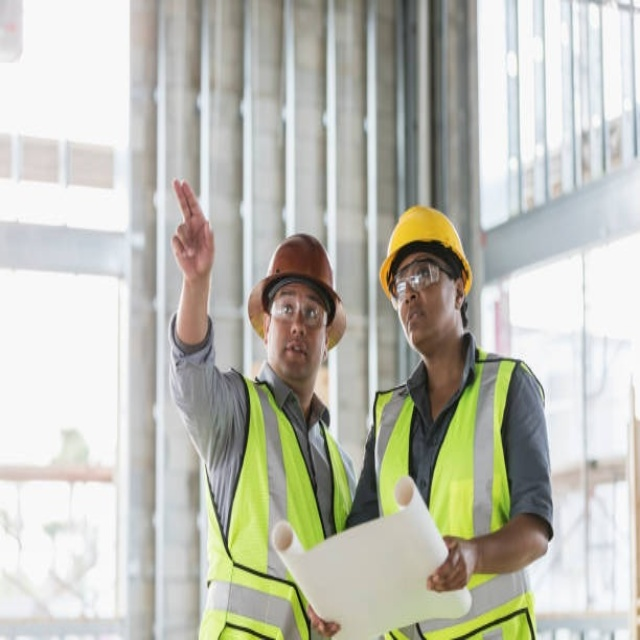Gafas: (392, 261, 449, 300), (270, 299, 328, 327)
Sin_guantes: (170, 176, 215, 280), (427, 534, 472, 594), (304, 598, 339, 639)
Sin_mascara: (275, 336, 315, 373), (402, 303, 432, 342)
